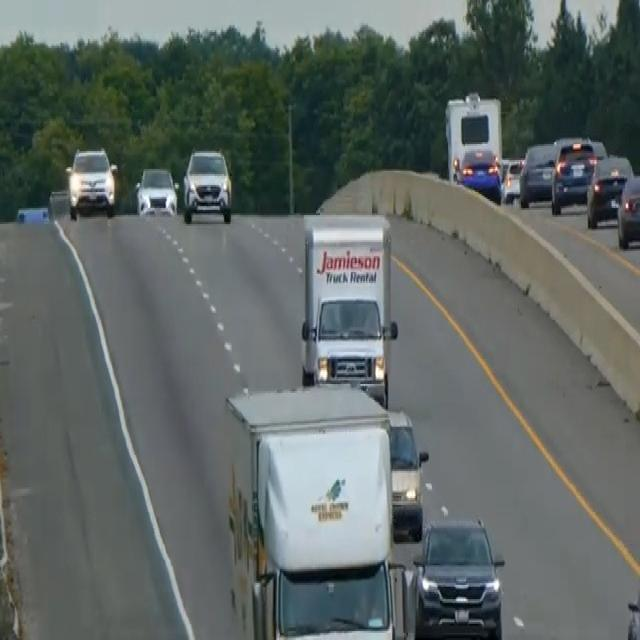bus: (443, 89, 504, 201)
car: (412, 512, 505, 636), (550, 134, 603, 214), (182, 146, 233, 224), (65, 144, 117, 219), (586, 151, 634, 228), (518, 139, 558, 206), (134, 163, 178, 217), (616, 171, 639, 249), (500, 154, 524, 202)
lorry: (222, 378, 415, 636)
minivan: (385, 406, 428, 540)
truck: (299, 210, 398, 405)
